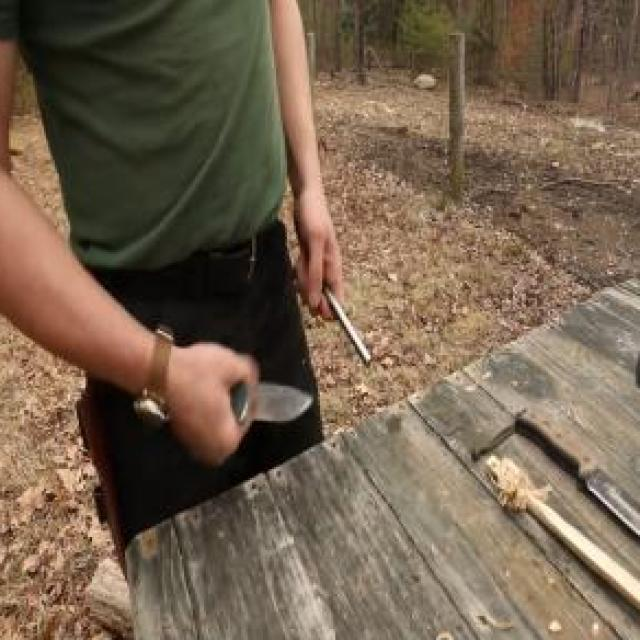knife: (194, 338, 320, 463)
